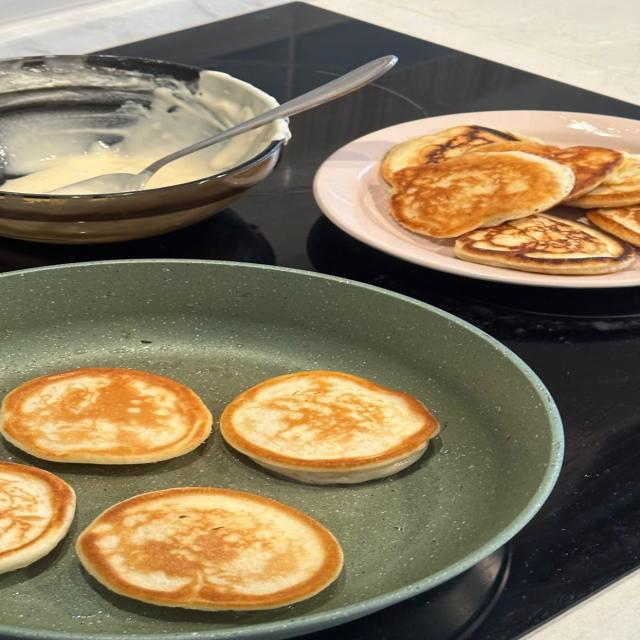pancake: (76, 487, 343, 610), (220, 371, 438, 484), (0, 368, 212, 463), (391, 151, 574, 237), (455, 214, 635, 275), (474, 142, 623, 200), (0, 462, 75, 573), (382, 125, 517, 184), (547, 146, 623, 202), (567, 154, 639, 209), (587, 206, 639, 246), (470, 140, 560, 156)
